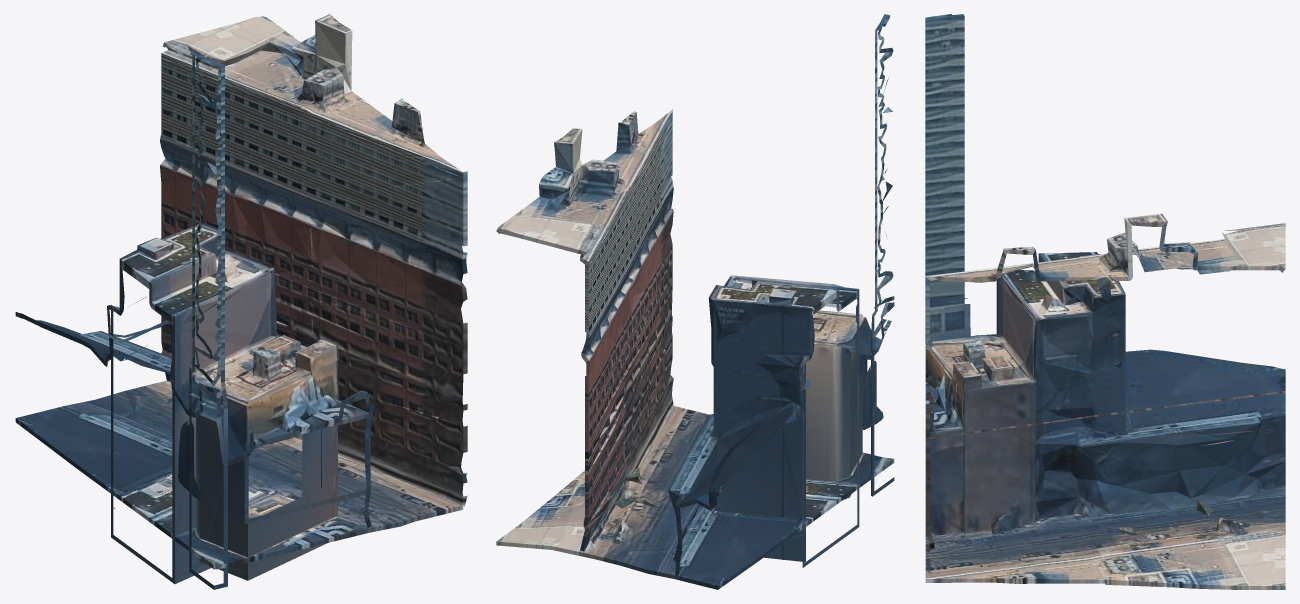
Rendered from chunk_2_5.glb.
The picture shows the model from 3 angles, left to right: view 1: azimuth 30°, elevation 25°; view 2: azimuth 150°, elevation 25°; view 3: azimuth 270°, elevation 25°; orthographic projection. The views are drawn at different scales.
Visible parts, largest first — view 1: hero-chunk; view 2: hero-chunk; view 3: hero-chunk.
Boxes of the visible parts, x1,y1,x2,y2 form: hero-chunk: (15,14,467,589); hero-chunk: (496,14,894,589); hero-chunk: (925,14,1285,589).
Size of the model in its own units: 57.27 by 116 by 76.33.
Materials: 3 (3 with a texture image).
